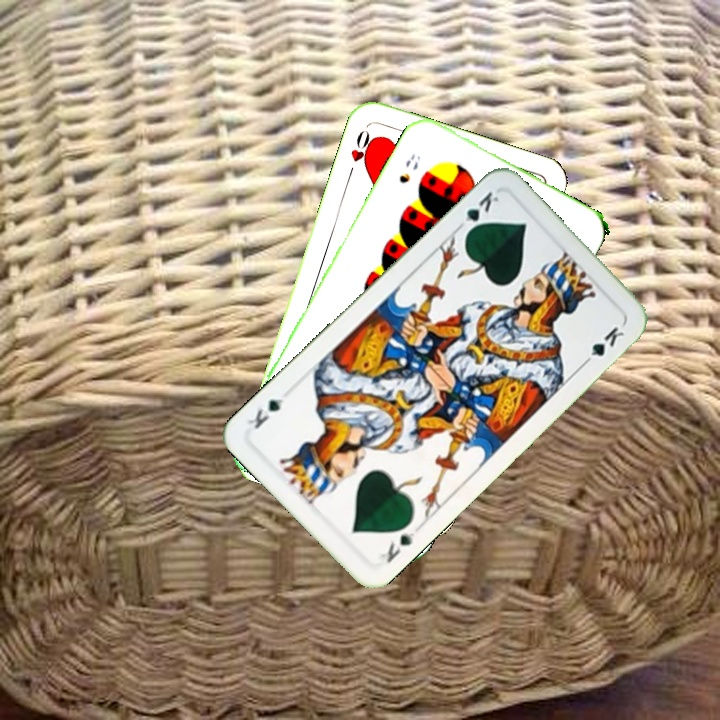GK: (453, 187, 502, 238), (376, 528, 418, 566)
HO: (344, 125, 378, 180)
S8: (394, 149, 424, 186)
